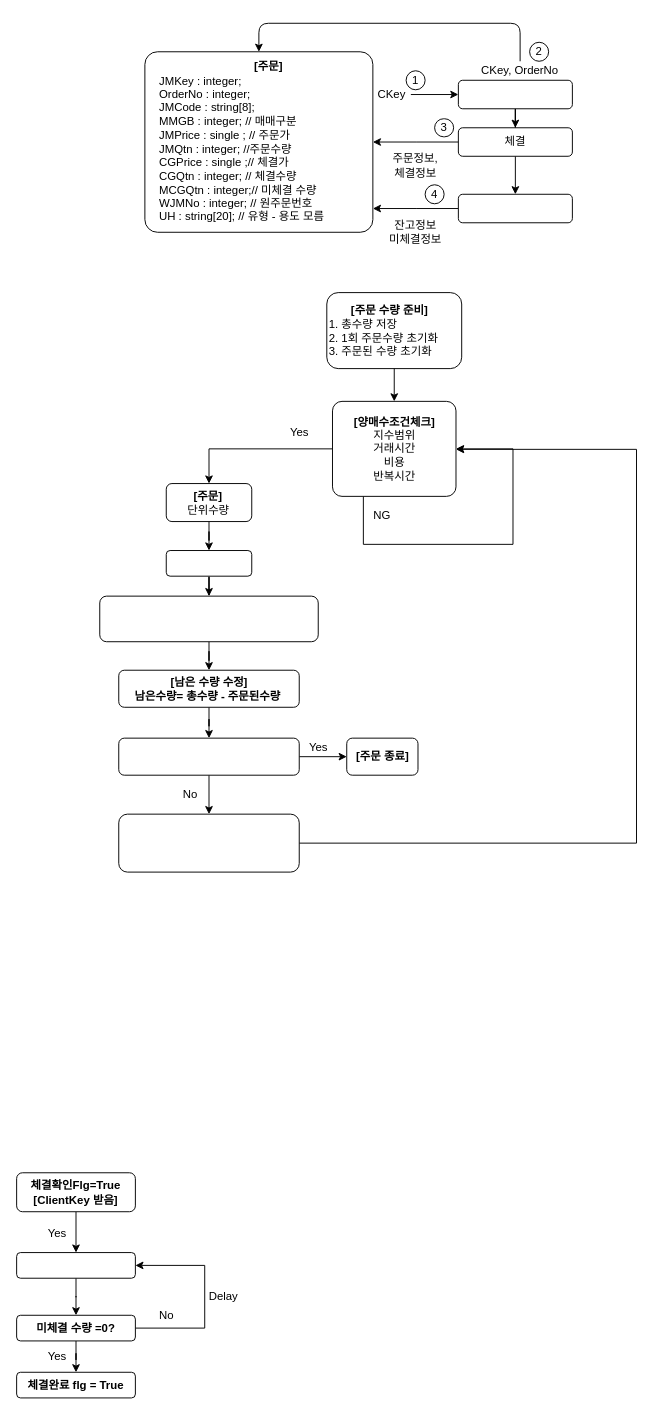
The diagram is 661 pixels wide and 1415 high, and some of its shapes have lost their labels. Each missing label, with the box of its shape:
[단위 수량 수정] 남은수량 < 단위수량 이면 단위수량 = 남은수량: (118, 813, 299, 872)
[주문 완료 확인] 주문수량 >= 총수량: (118, 737, 299, 775)
[주문된 수량 수정] 주문된수량 = 주문된수량 + 단위수량: (99, 595, 318, 642)
[체결확인]: (165, 550, 252, 576)
잔고: (457, 193, 572, 223)
접수: (457, 79, 572, 109)
주문 ClientKey 확인: (16, 1252, 135, 1278)
